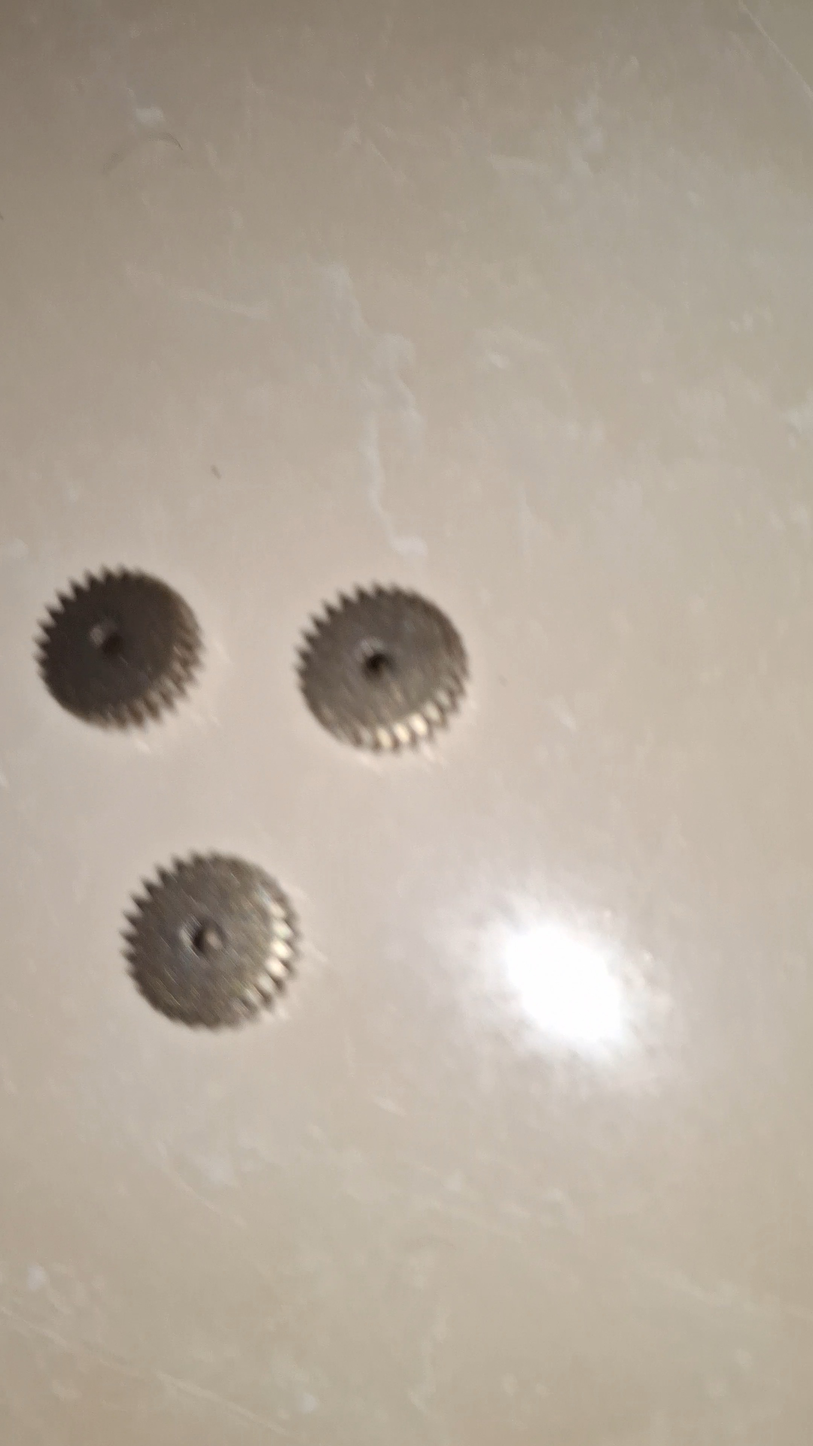spur gear: (124, 854, 297, 1028), (298, 586, 467, 750), (38, 569, 202, 728)
